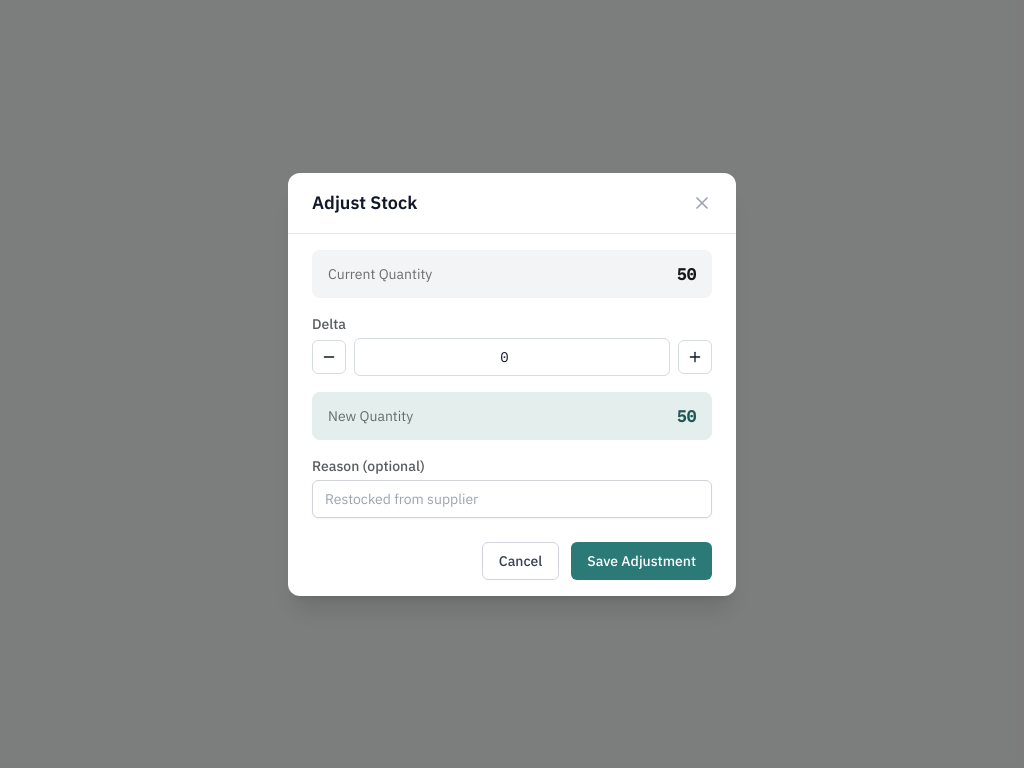
Test: StockUpdateModal › blocks submission when delta is 0
Click the button "Save Adjustment": (642, 560) [571, 542, 712, 580]
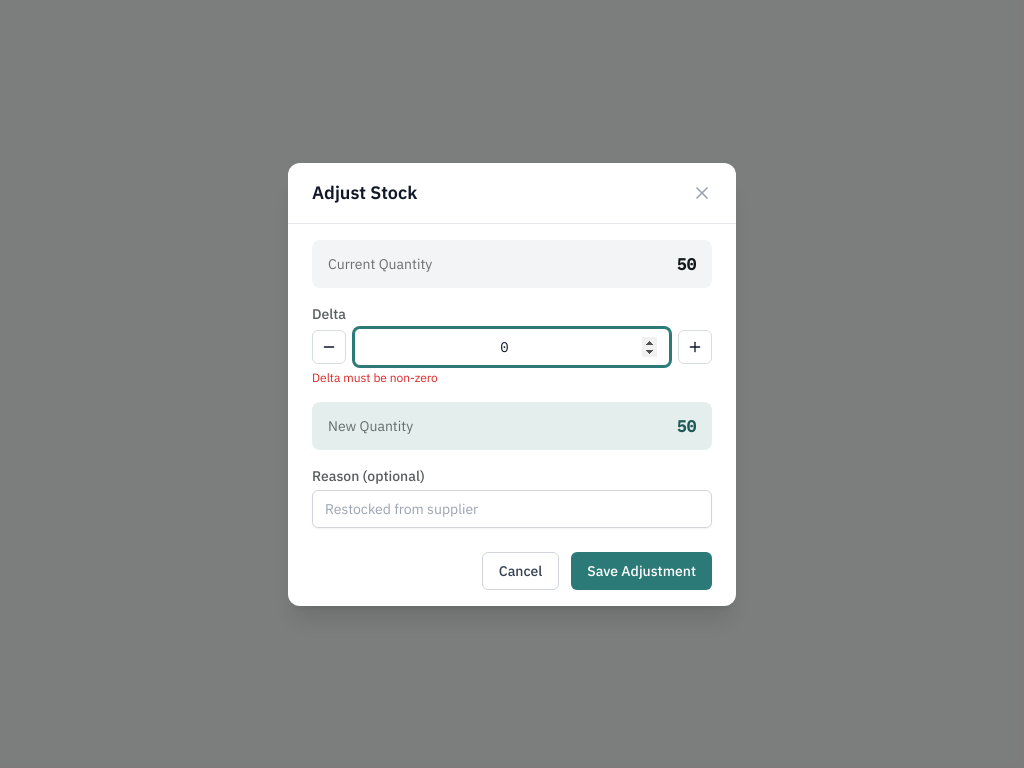
Result: the text "Delta must be non-zero" is shown at [312, 370, 438, 384]
